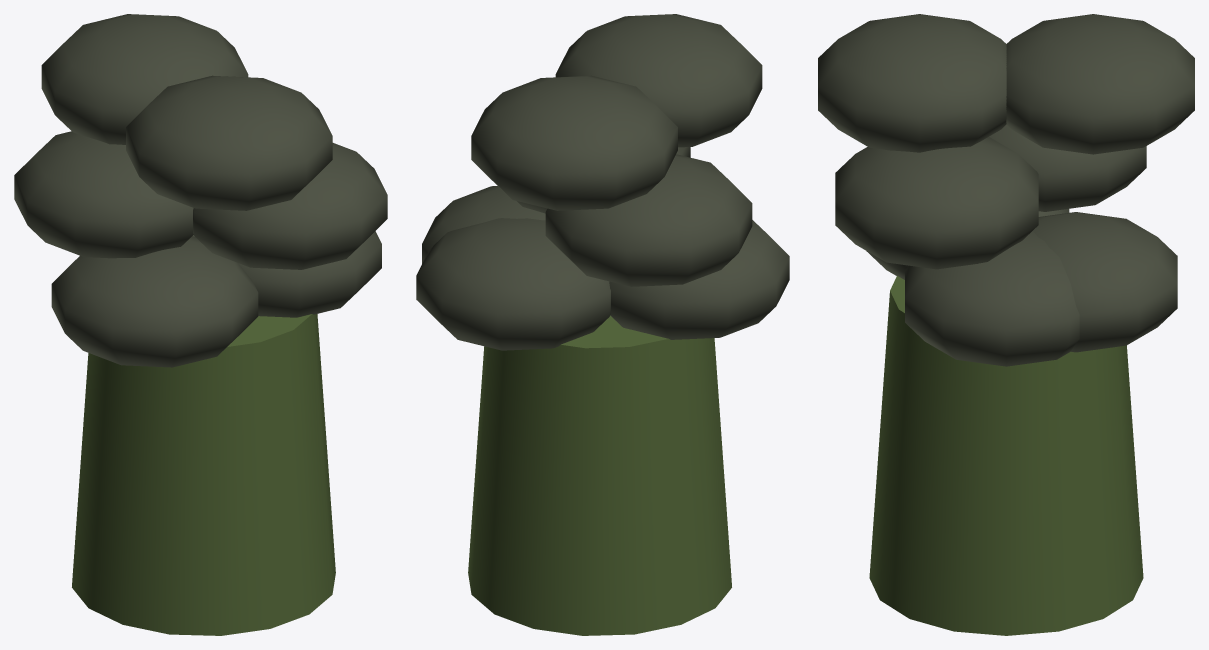
File: plant-cabinet.glb
3 renders of one model, left to right at view 1: azimuth 30°, elevation 25°; view 2: azimuth 150°, elevation 25°; view 3: azimuth 270°, elevation 25°, orthographic. The views are drawn at different scales.
Visible parts, largest first — view 1: REF-L06-R01-plant-cabinet-part-1, REF-L06-R01-plant-cabinet-part-4, REF-L06-R01-plant-cabinet-part-5, REF-L06-R01-plant-cabinet-part-7, REF-L06-R01-plant-cabinet-part-6, REF-L06-R01-plant-cabinet-part-3, REF-L06-R01-plant-cabinet-part-2; view 2: REF-L06-R01-plant-cabinet-part-1, REF-L06-R01-plant-cabinet-part-7, REF-L06-R01-plant-cabinet-part-8, REF-L06-R01-plant-cabinet-part-6, REF-L06-R01-plant-cabinet-part-4, REF-L06-R01-plant-cabinet-part-5, REF-L06-R01-plant-cabinet-part-2; view 3: REF-L06-R01-plant-cabinet-part-1, REF-L06-R01-plant-cabinet-part-7, REF-L06-R01-plant-cabinet-part-4, REF-L06-R01-plant-cabinet-part-3, REF-L06-R01-plant-cabinet-part-2, REF-L06-R01-plant-cabinet-part-8, REF-L06-R01-plant-cabinet-part-6.
Boxes of the visible parts, x1,y1,x2,y2 form: REF-L06-R01-plant-cabinet-part-1: (72, 314, 335, 635); REF-L06-R01-plant-cabinet-part-4: (126, 75, 332, 210); REF-L06-R01-plant-cabinet-part-5: (51, 236, 258, 367); REF-L06-R01-plant-cabinet-part-7: (41, 14, 248, 144); REF-L06-R01-plant-cabinet-part-6: (14, 131, 193, 258); REF-L06-R01-plant-cabinet-part-3: (193, 143, 387, 269); REF-L06-R01-plant-cabinet-part-2: (239, 231, 381, 317); REF-L06-R01-plant-cabinet-part-1: (468, 315, 731, 635); REF-L06-R01-plant-cabinet-part-7: (471, 75, 677, 210); REF-L06-R01-plant-cabinet-part-8: (416, 218, 610, 350); REF-L06-R01-plant-cabinet-part-6: (545, 154, 752, 286); REF-L06-R01-plant-cabinet-part-4: (555, 14, 762, 147); REF-L06-R01-plant-cabinet-part-5: (609, 220, 789, 339); REF-L06-R01-plant-cabinet-part-2: (422, 186, 545, 263); REF-L06-R01-plant-cabinet-part-1: (869, 276, 1143, 635); REF-L06-R01-plant-cabinet-part-7: (1006, 14, 1194, 154); REF-L06-R01-plant-cabinet-part-4: (818, 14, 1006, 152); REF-L06-R01-plant-cabinet-part-3: (835, 137, 1038, 269); REF-L06-R01-plant-cabinet-part-2: (905, 231, 1079, 366); REF-L06-R01-plant-cabinet-part-8: (1033, 212, 1177, 352); REF-L06-R01-plant-cabinet-part-6: (989, 124, 1146, 211).
Size of the model in its own units: 0.0978 by 0.1522 by 0.0963.
